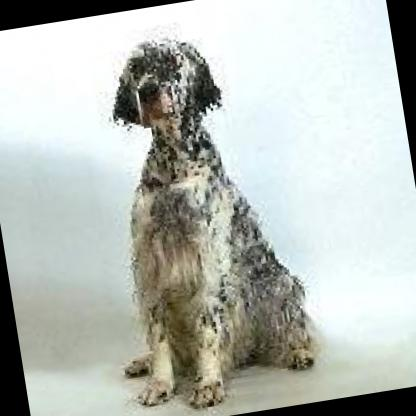English_setter: (68, 15, 324, 416)
